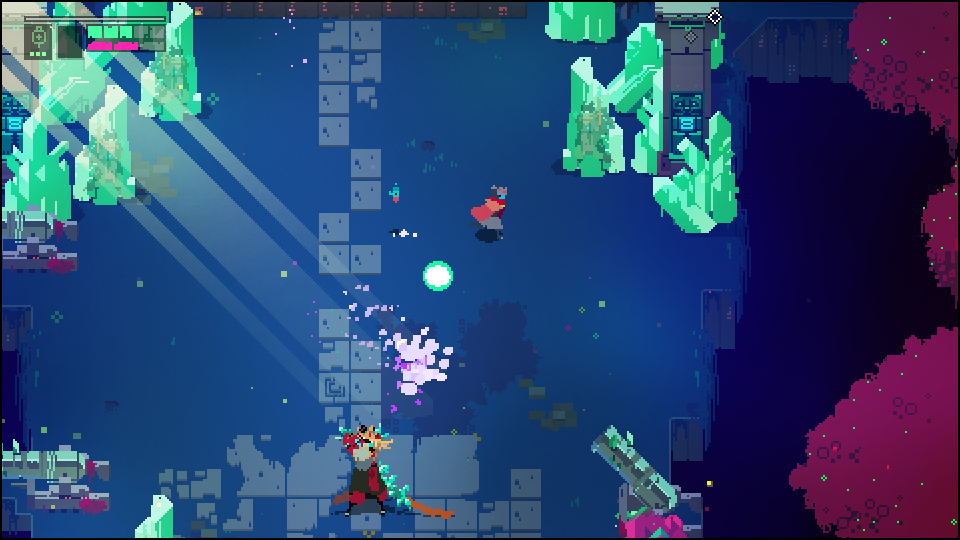hanged_man: (331, 422, 414, 517)
hanged_shot: (421, 257, 455, 293)
player: (465, 182, 514, 245)
